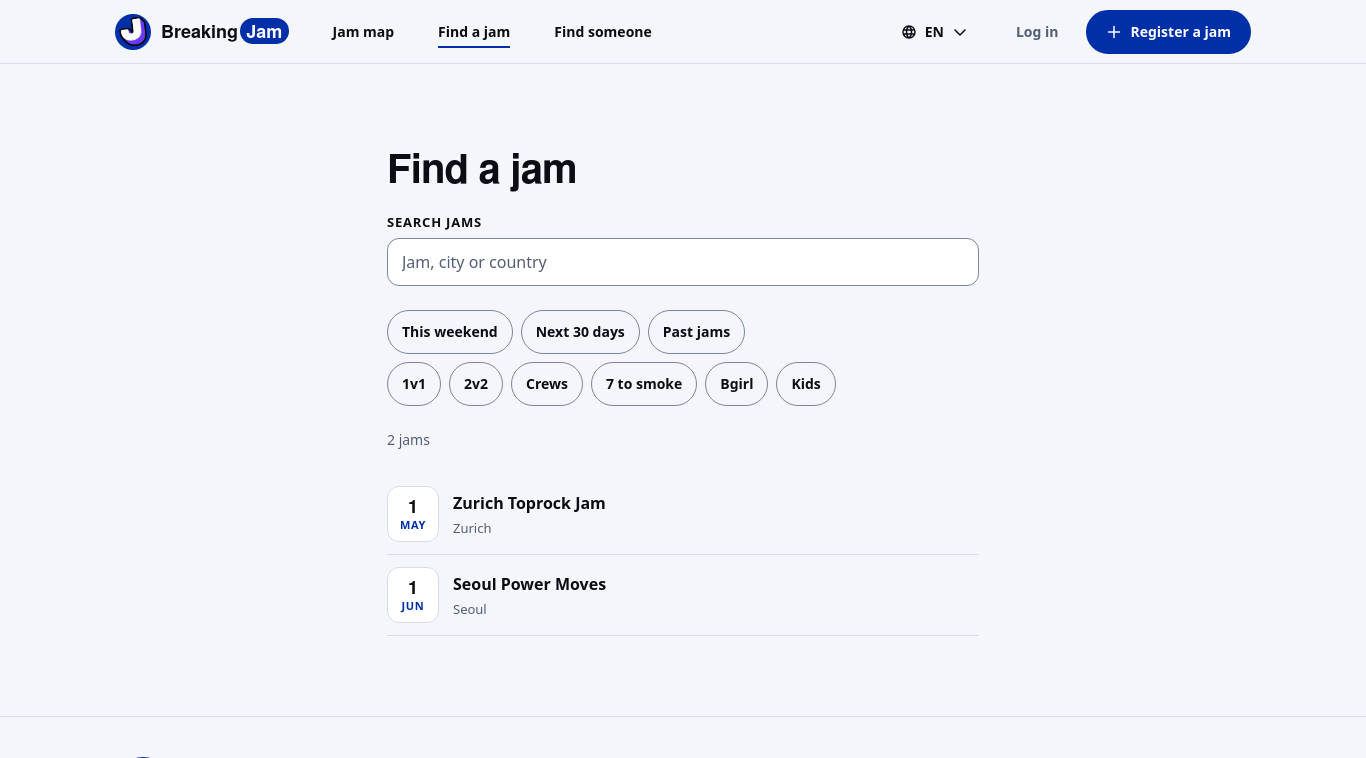
it: JamsPage › searches through every jam and keeps the words in the URL
Type "paris" into the search field labelled "Search jams" at [683, 262], box left=387, top=238, right=979, bottom=286
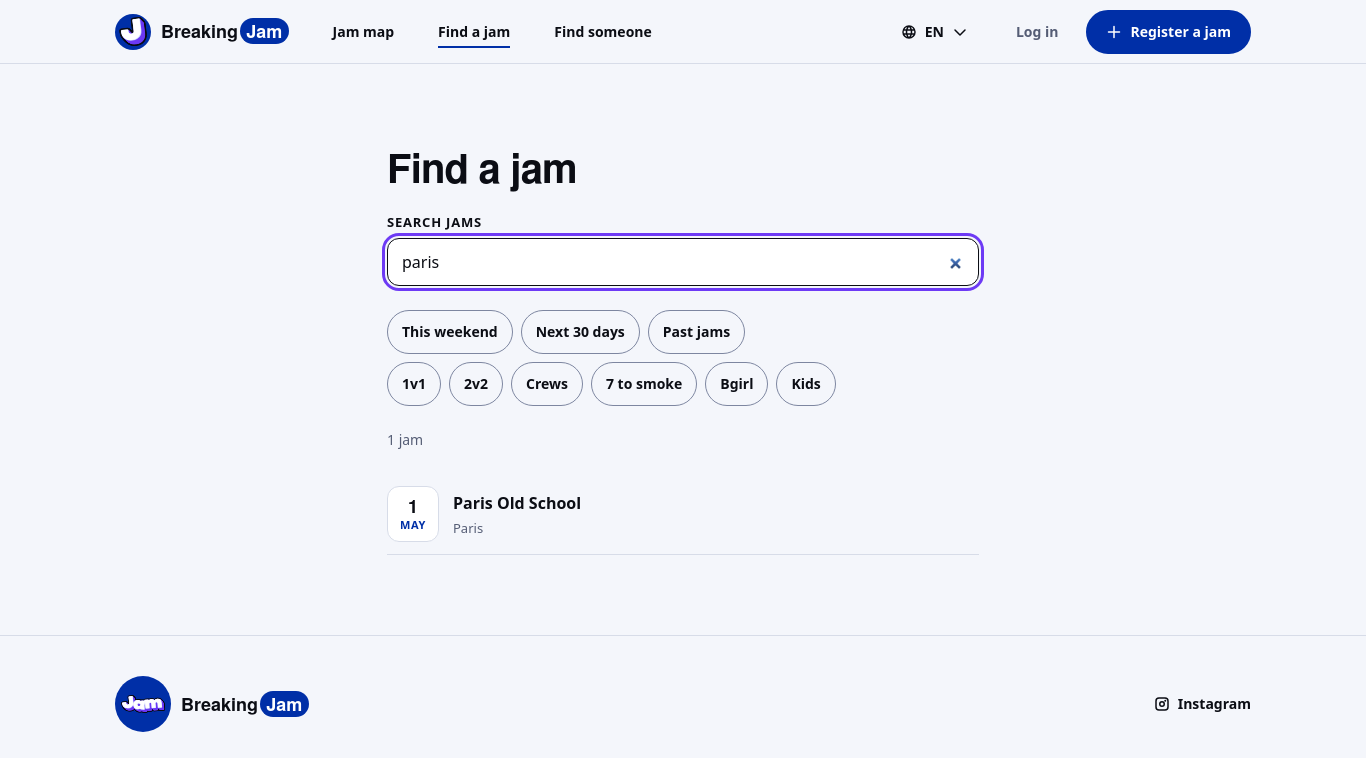
Now the link "1 May Paris Old School Paris" is shown, box left=387, top=474, right=979, bottom=555
